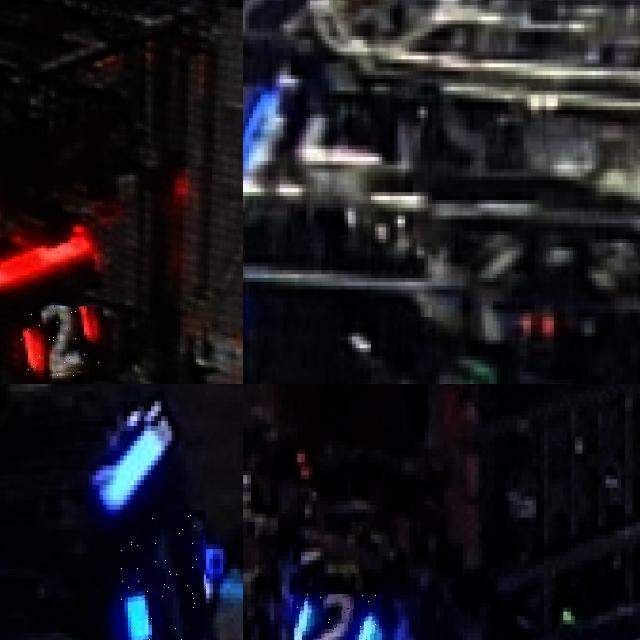B1: (116, 509, 206, 640)
B2: (289, 594, 382, 640)
R2: (12, 306, 103, 378)
